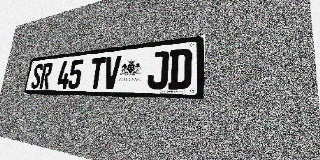4: (56, 60, 72, 89)
5: (67, 59, 84, 89)
D: (168, 48, 192, 89)
J: (147, 50, 169, 89)
R: (39, 62, 53, 89)
S: (30, 63, 44, 89)
T: (88, 57, 106, 89)
V: (103, 55, 122, 89)
